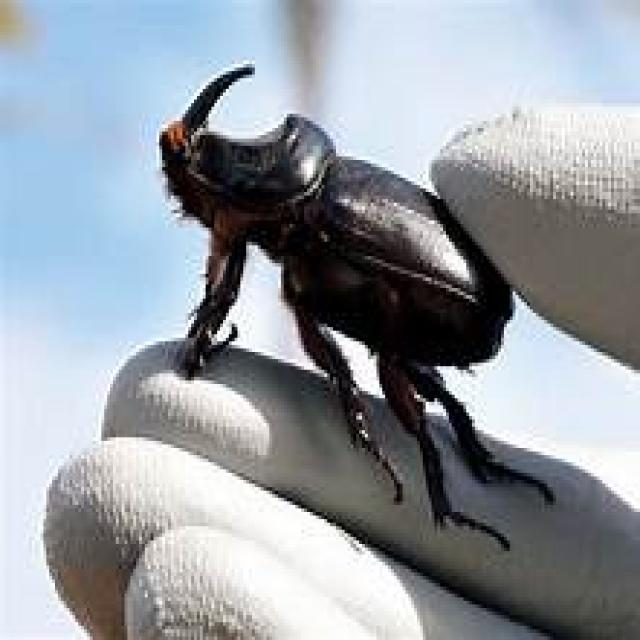Rhino-beetle: (103, 58, 512, 492)
